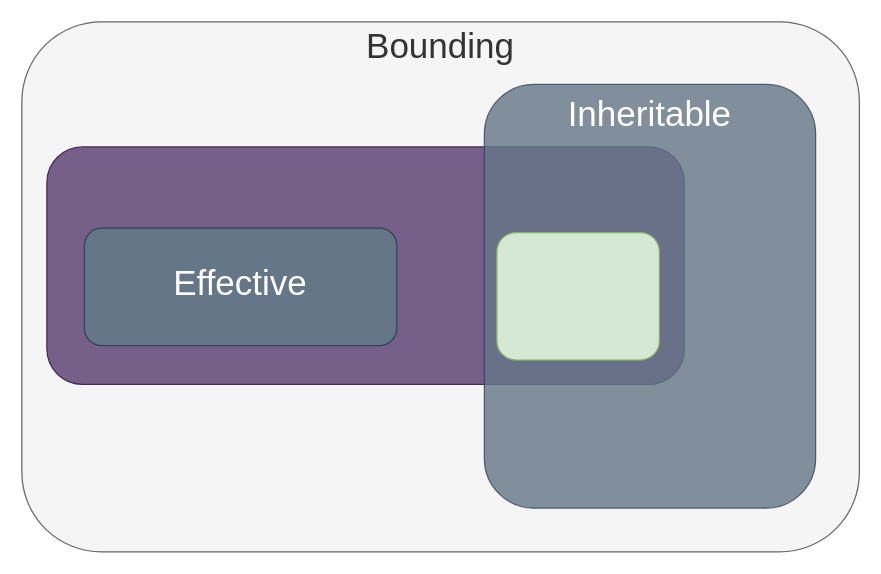
This 881x574 diagram has some shape labels left out. Each missing label, with the box of its shape:
Ambient: (496, 231, 659, 360)
Permitted: (46, 146, 684, 384)
